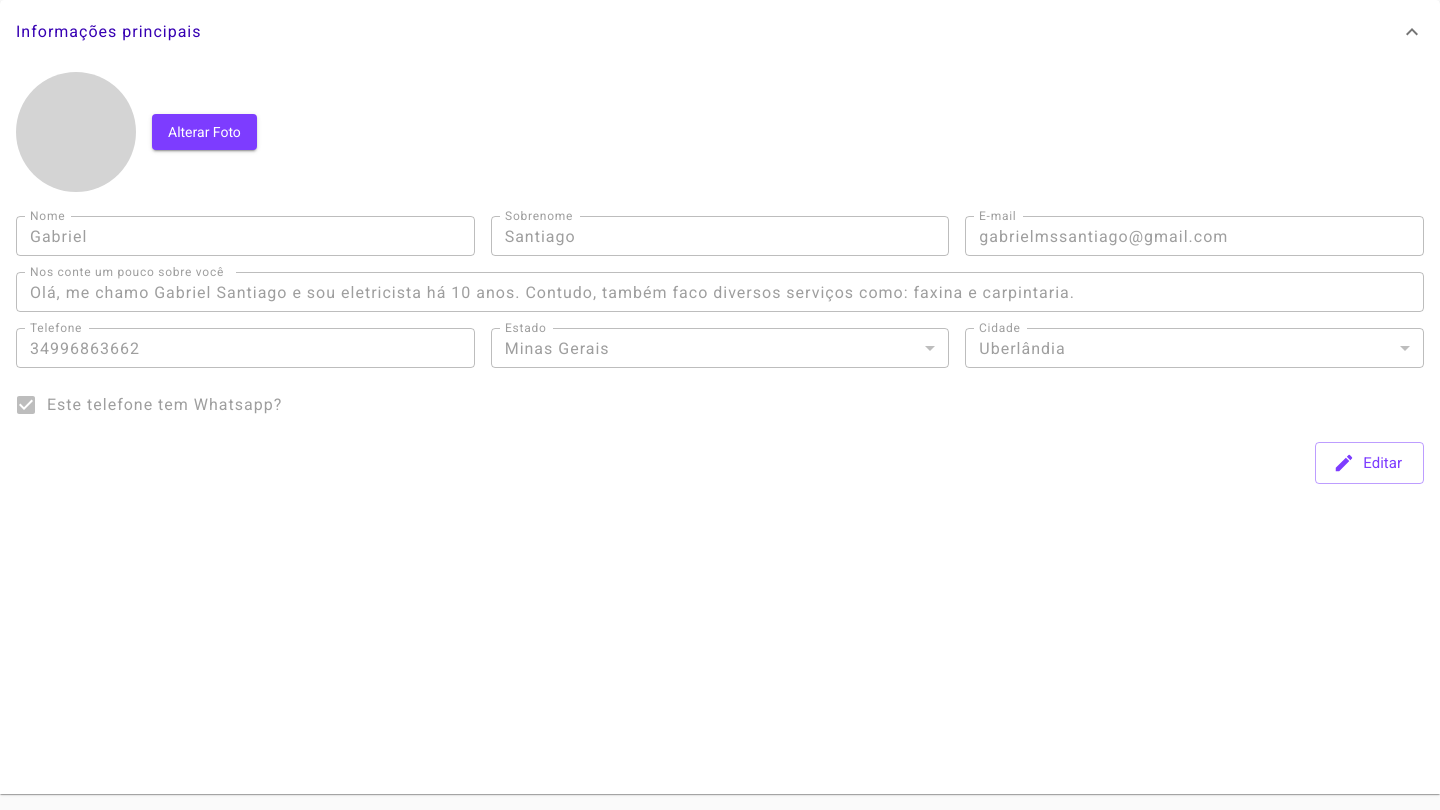
Test: should cancel editing and disable inputs when click on cancel button
Expected: the field labelled "Nome" is not empty, [16,216,475,256]
Click the button "Editar" at (1370, 463), box [1315,442,1424,484]
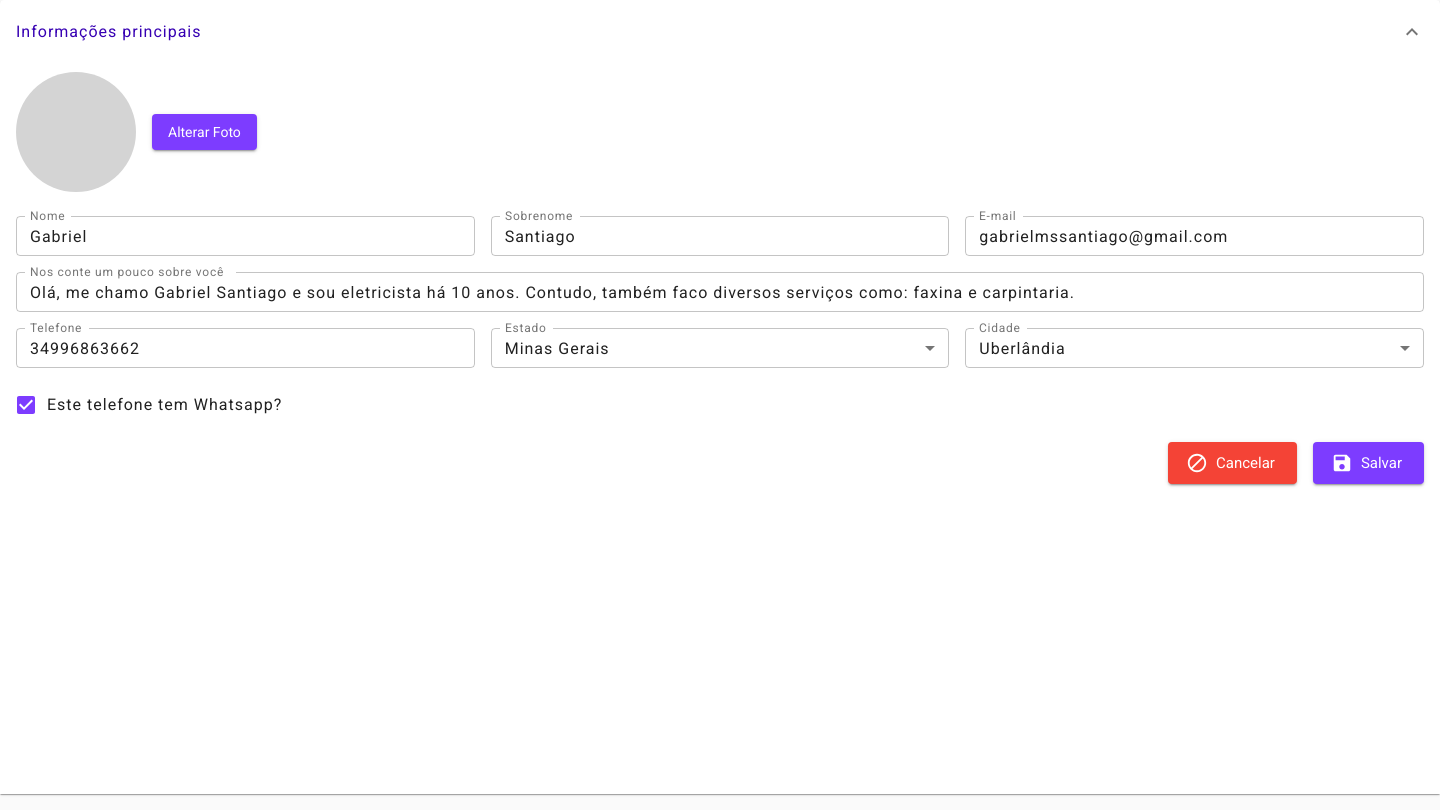
Now the field labelled "Nome" is enabled, box [16,216,475,256]
Click the button "Cancelar" at (1232, 463), box [1168,442,1297,484]
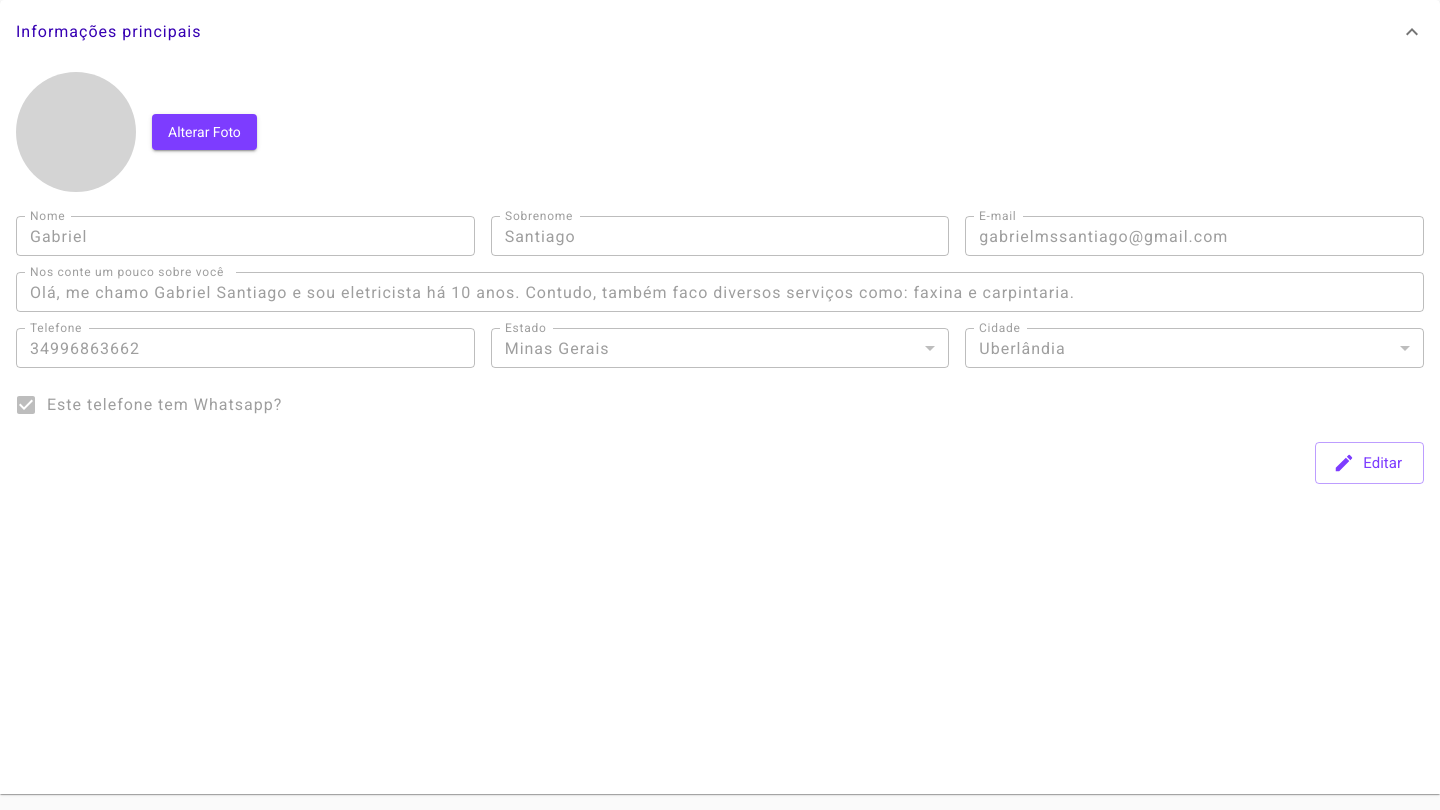
Now the field labelled "Nome" is disabled, box [16,216,475,256]
